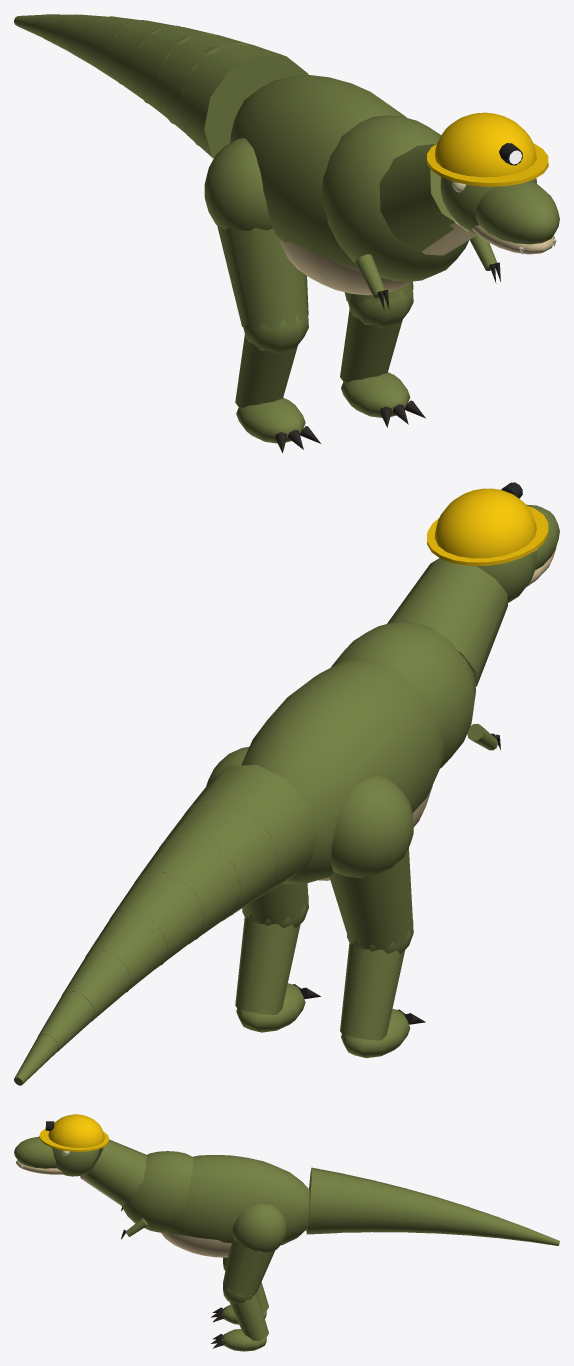
Rendered from dino_rex_hf2c000.glb.
The picture shows the model from 3 angles, top to bottom: view 1: azimuth 30°, elevation 25°; view 2: azimuth 150°, elevation 25°; view 3: azimuth 270°, elevation 25°; orthographic projection. The views are drawn at different scales.
Parts seen in each view (by area): view 1: dino_hips, dino_head, dino_legs_0_hip, dino_tail_0_p, dino_neckBase, dino_legs_0_knee, dino_legs_1_knee, dino_tail_1_p, dino_legs_1_ankle, dino_legs_0_ankle, dino_tail_2_p, dino_tail_3_p (+6 smaller); view 2: dino_hips, dino_legs_0_hip, dino_head, dino_neckBase, dino_tail_0_p, dino_tail_1_p, dino_legs_0_knee, dino_legs_1_knee, dino_tail_2_p, dino_tail_3_p, dino_tail_4_p, dino_tail_5_p (+5 smaller); view 3: dino_hips, dino_legs_1_hip, dino_head, dino_neckBase, dino_tail_0_p, dino_tail_1_p, dino_tail_2_p, dino_legs_1_knee, dino_tail_3_p, dino_tail_4_p, dino_tail_5_p, dino_legs_1_ankle (+3 smaller).
Part boxes in pixels (box(x1,y1,x2,y2)): dino_hips: box(230, 75, 468, 295); dino_head: box(427, 112, 559, 254); dino_legs_0_hip: box(204, 138, 308, 328); dino_tail_0_p: box(178, 43, 308, 158); dino_neckBase: box(379, 143, 477, 255); dino_legs_0_knee: box(235, 314, 308, 407); dino_legs_1_knee: box(340, 288, 413, 382); dino_tail_1_p: box(154, 34, 249, 145); dino_legs_1_ankle: box(341, 372, 425, 427); dino_legs_0_ankle: box(236, 397, 320, 453); dino_tail_2_p: box(131, 26, 215, 123); dino_tail_3_p: box(107, 20, 181, 103); dino_hips: box(241, 621, 475, 883); dino_legs_0_hip: box(329, 776, 413, 949); dino_head: box(427, 482, 559, 602); dino_neckBase: box(387, 558, 507, 686); dino_tail_0_p: box(184, 765, 316, 899); dino_tail_1_p: box(159, 796, 279, 920); dino_legs_0_knee: box(340, 921, 413, 1040); dino_legs_1_knee: box(235, 896, 308, 1014); dino_tail_2_p: box(134, 832, 242, 943); dino_tail_3_p: box(110, 869, 205, 968); dino_tail_4_p: box(85, 908, 168, 991); dino_tail_5_p: box(61, 948, 132, 1020); dino_hips: box(121, 1151, 309, 1257); dino_legs_1_hip: box(223, 1204, 287, 1296); dino_head: box(14, 1114, 109, 1176); dino_neckBase: box(80, 1139, 147, 1205); dino_tail_0_p: box(306, 1167, 344, 1234); dino_tail_1_p: box(337, 1173, 376, 1232); dino_tail_2_p: box(368, 1180, 407, 1232); dino_legs_1_knee: box(223, 1283, 268, 1341); dino_tail_3_p: box(400, 1188, 439, 1233); dino_tail_4_p: box(432, 1197, 469, 1235); dino_tail_5_p: box(463, 1207, 500, 1237); dino_legs_1_ankle: box(211, 1329, 266, 1351).
Size of the model in its own units: 2.94 by 6.1 by 13.77.
